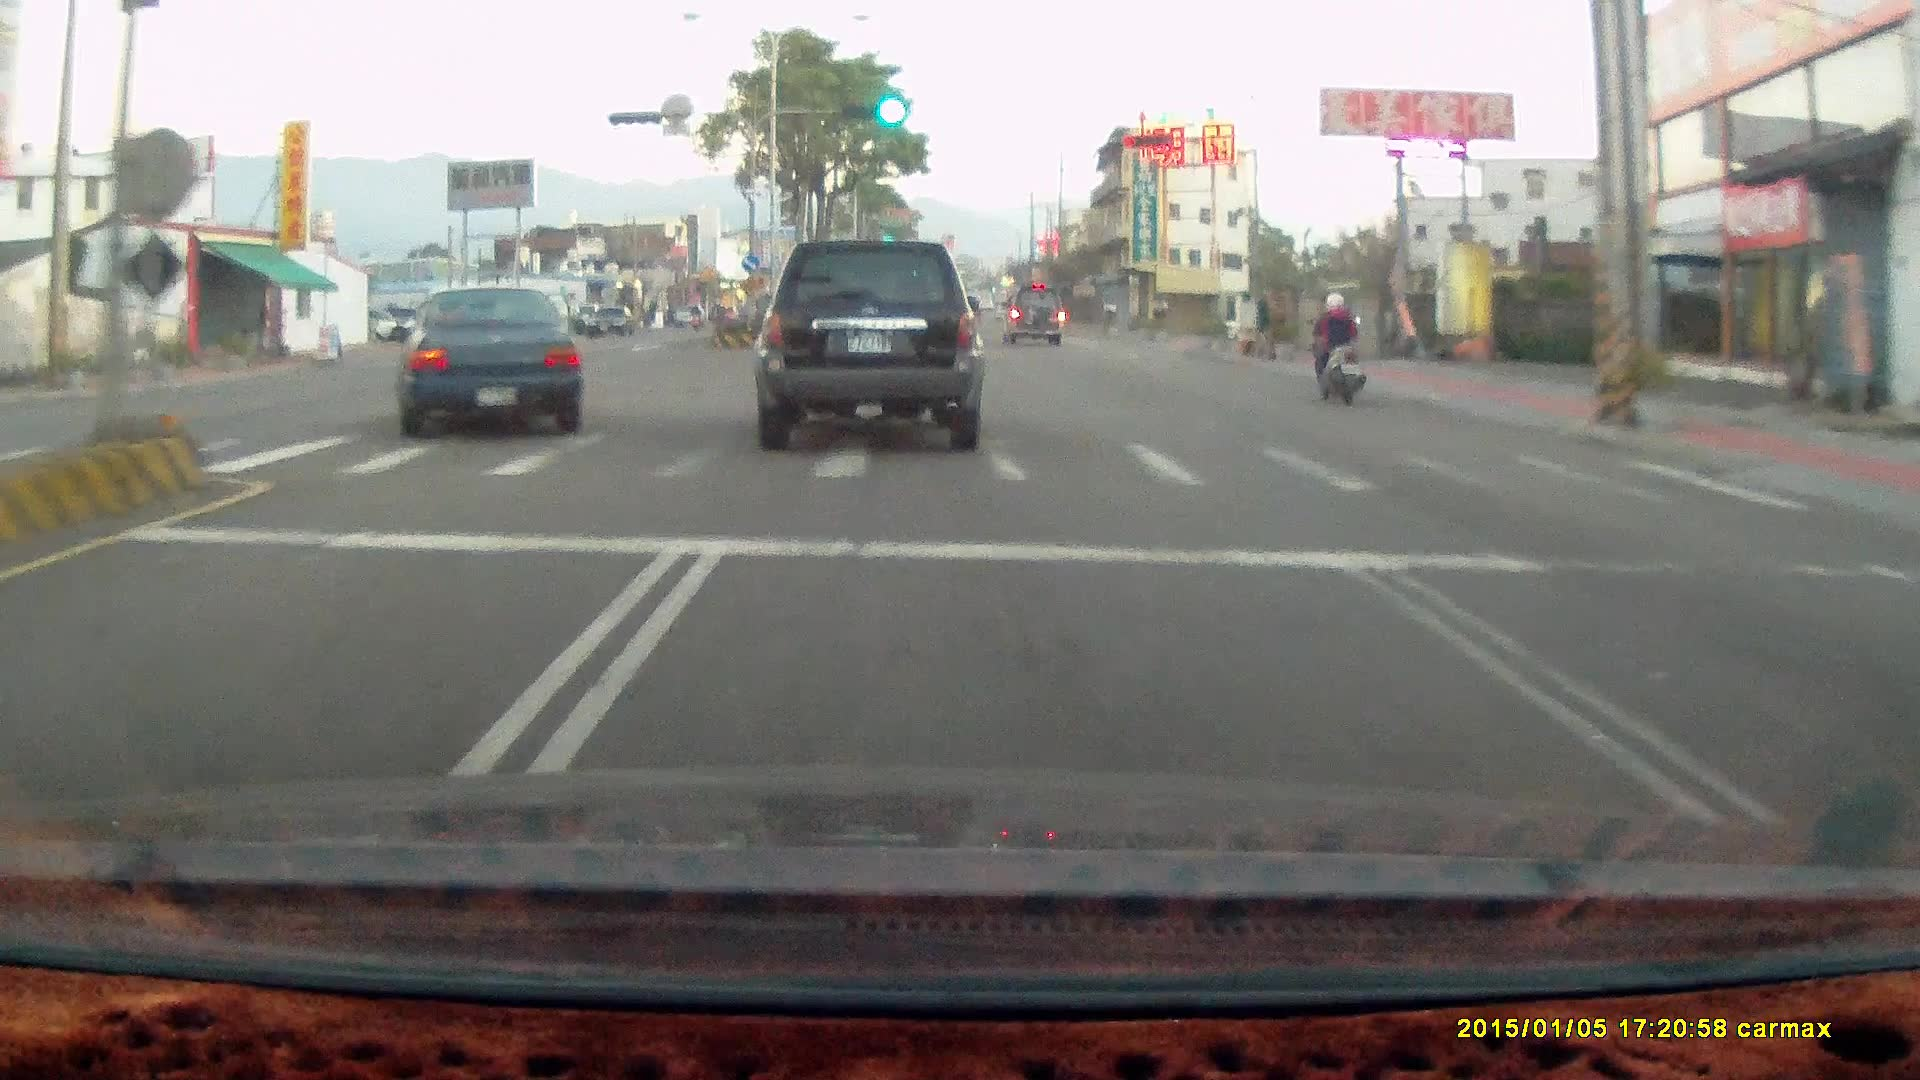rider: (1297, 284, 1376, 413), (1306, 287, 1366, 404)
vehicle: (757, 243, 987, 457), (753, 239, 983, 451), (391, 280, 583, 437), (395, 280, 582, 439), (1001, 285, 1069, 351), (999, 281, 1063, 342), (584, 304, 635, 338)
